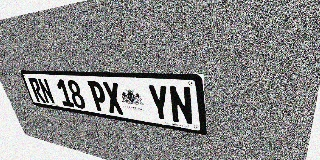1: (54, 79, 75, 107)
8: (66, 80, 87, 109)
N: (168, 85, 194, 126), (37, 78, 56, 105)
P: (87, 81, 109, 113)
R: (28, 78, 46, 103)
X: (102, 82, 125, 115)
Y: (146, 84, 172, 122)
